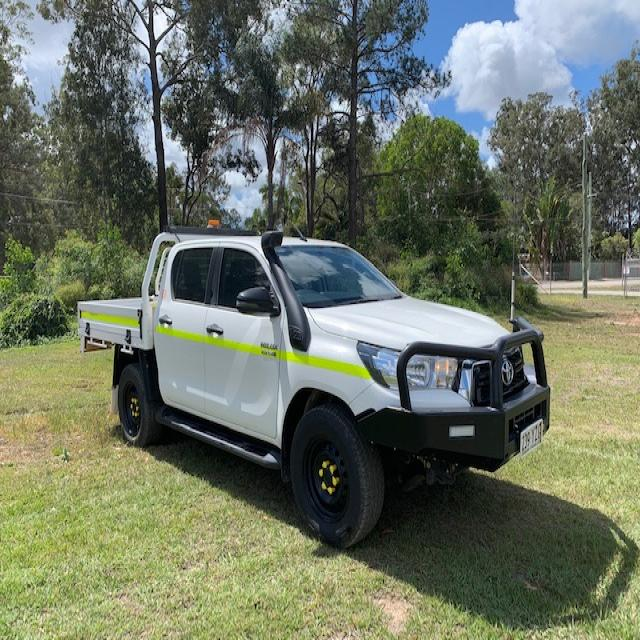light_vehicle: (64, 212, 565, 560)
